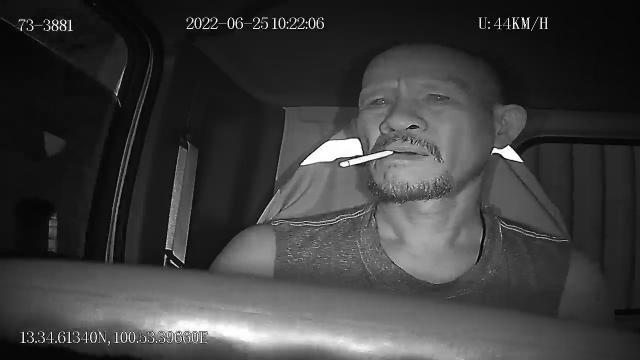SafeDriving: (418, 82, 460, 112), (359, 85, 398, 116)
Smoking: (338, 148, 394, 168)
